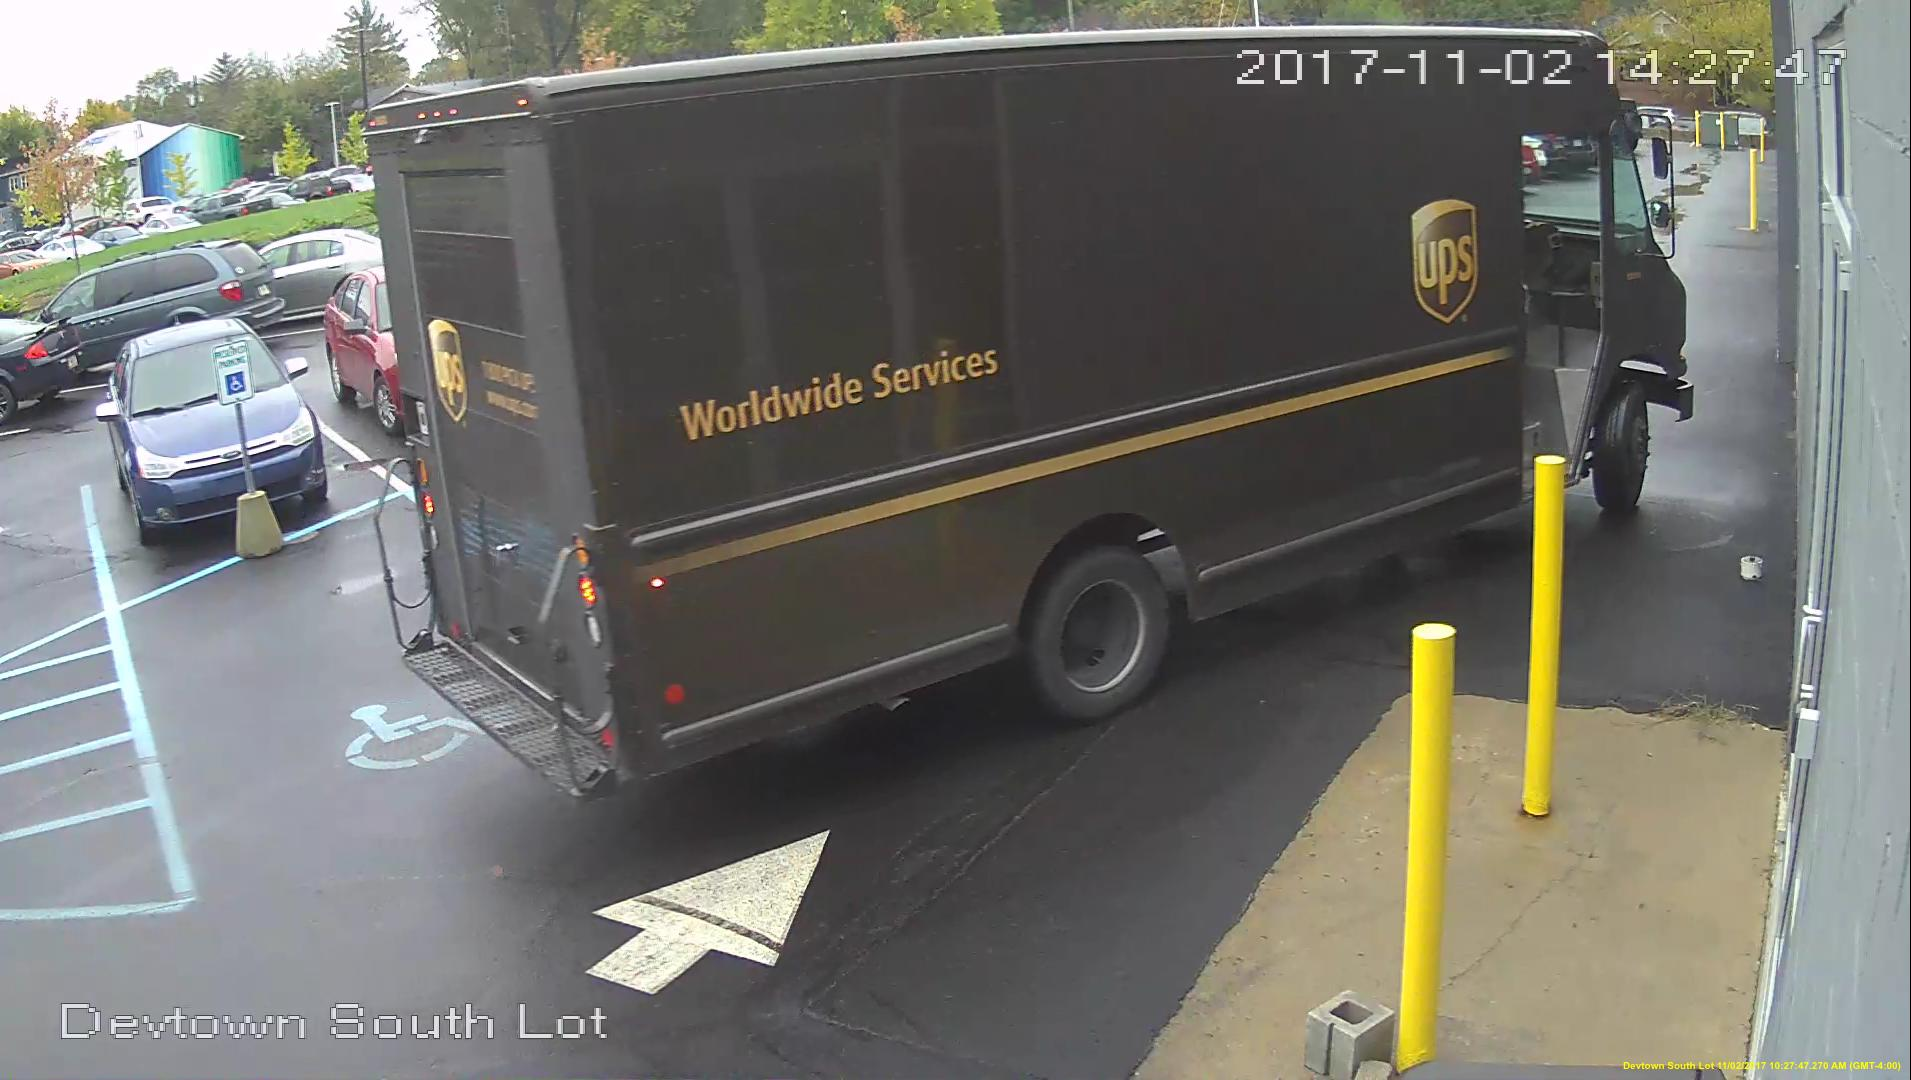ups_truck: (365, 28, 1684, 794)
